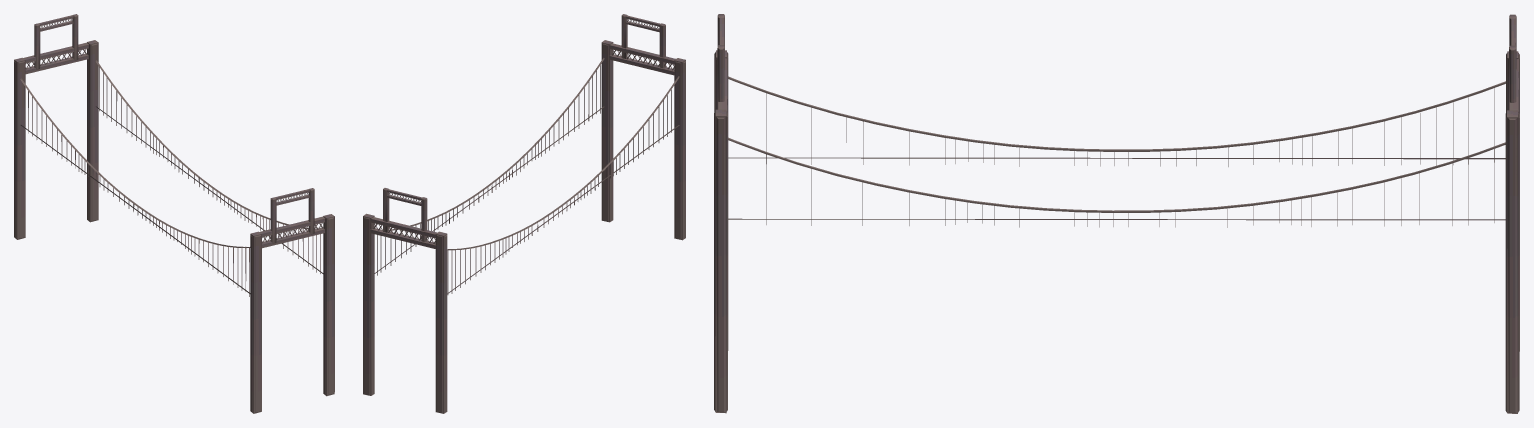
File: 079_Extrude_001.gltf
3 views of the same model, side by side, from view 1: azimuth 30°, elevation 25°; view 2: azimuth 150°, elevation 25°; view 3: azimuth 270°, elevation 25° (orthographic). The views are drawn at different scales.
Visible parts, largest first — view 1: Extrude_001; view 2: Extrude_001; view 3: Extrude_001.
Boxes of the visible parts, x1,y1,x2,y2 form: Extrude_001: (14, 14, 334, 413); Extrude_001: (363, 14, 685, 413); Extrude_001: (714, 14, 1519, 413).
Size of the model in its own units: 666 by 1594 by 3335.
Materials: 1 (1 with a texture image).
